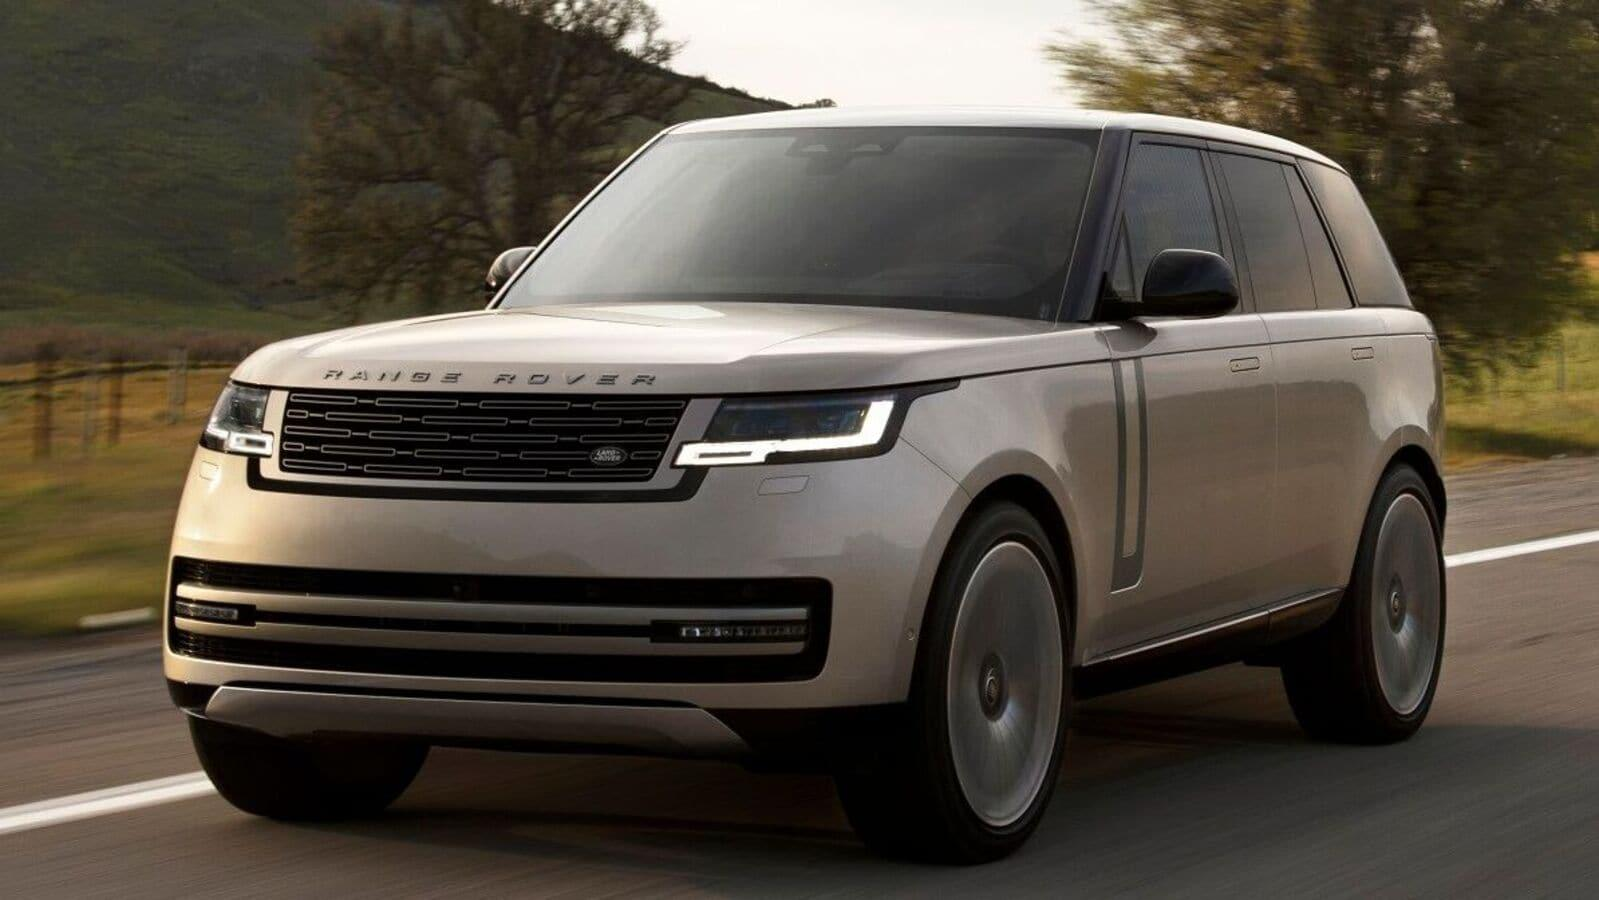range rover: (306, 347, 673, 417)
